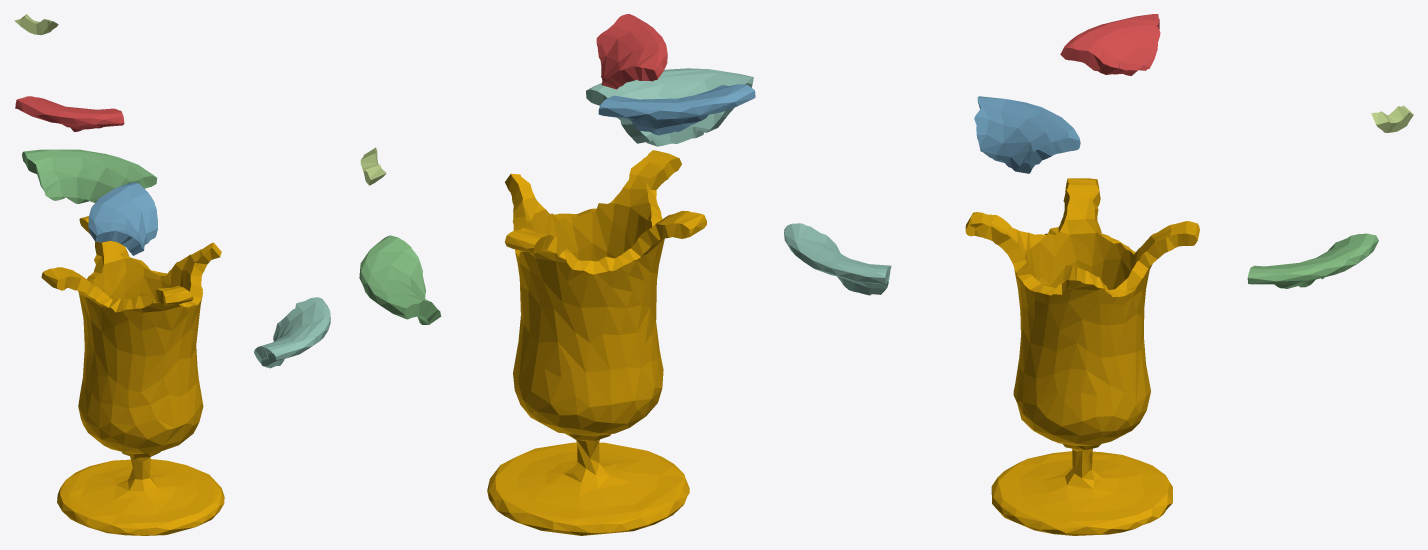
The model's file is mode_10_6pcs_transformed.glb.
3 renders of one model, left to right at view 1: azimuth 30°, elevation 25°; view 2: azimuth 150°, elevation 25°; view 3: azimuth 270°, elevation 25°, orthographic. The views are drawn at different scales.
Parts seen in each view (by area): view 1: piece_0.obj, piece_3.obj, piece_2.obj, piece_4.obj, piece_1.obj, piece_5.obj; view 2: piece_0.obj, piece_4.obj, piece_3.obj, piece_2.obj, piece_1.obj, piece_5.obj; view 3: piece_0.obj, piece_2.obj, piece_1.obj, piece_4.obj, piece_3.obj, piece_5.obj.
Part boxes in pixels (box(x1,y1,x2,y2)): piece_0.obj: box(41, 216, 224, 535); piece_3.obj: box(22, 149, 157, 203); piece_2.obj: box(88, 182, 157, 255); piece_4.obj: box(254, 297, 330, 368); piece_1.obj: box(15, 96, 124, 131); piece_5.obj: box(14, 14, 58, 35); piece_0.obj: box(487, 150, 706, 535); piece_4.obj: box(586, 68, 753, 146); piece_3.obj: box(359, 235, 441, 324); piece_2.obj: box(598, 84, 755, 135); piece_1.obj: box(596, 14, 667, 89); piece_5.obj: box(360, 147, 386, 185); piece_0.obj: box(965, 178, 1199, 535); piece_2.obj: box(974, 96, 1080, 173); piece_1.obj: box(1060, 14, 1160, 75); piece_4.obj: box(784, 223, 891, 295); piece_3.obj: box(1247, 233, 1378, 288); piece_5.obj: box(1371, 105, 1413, 132).
Size of the model in its own units: 0.7742 by 1.6 by 2.09.
